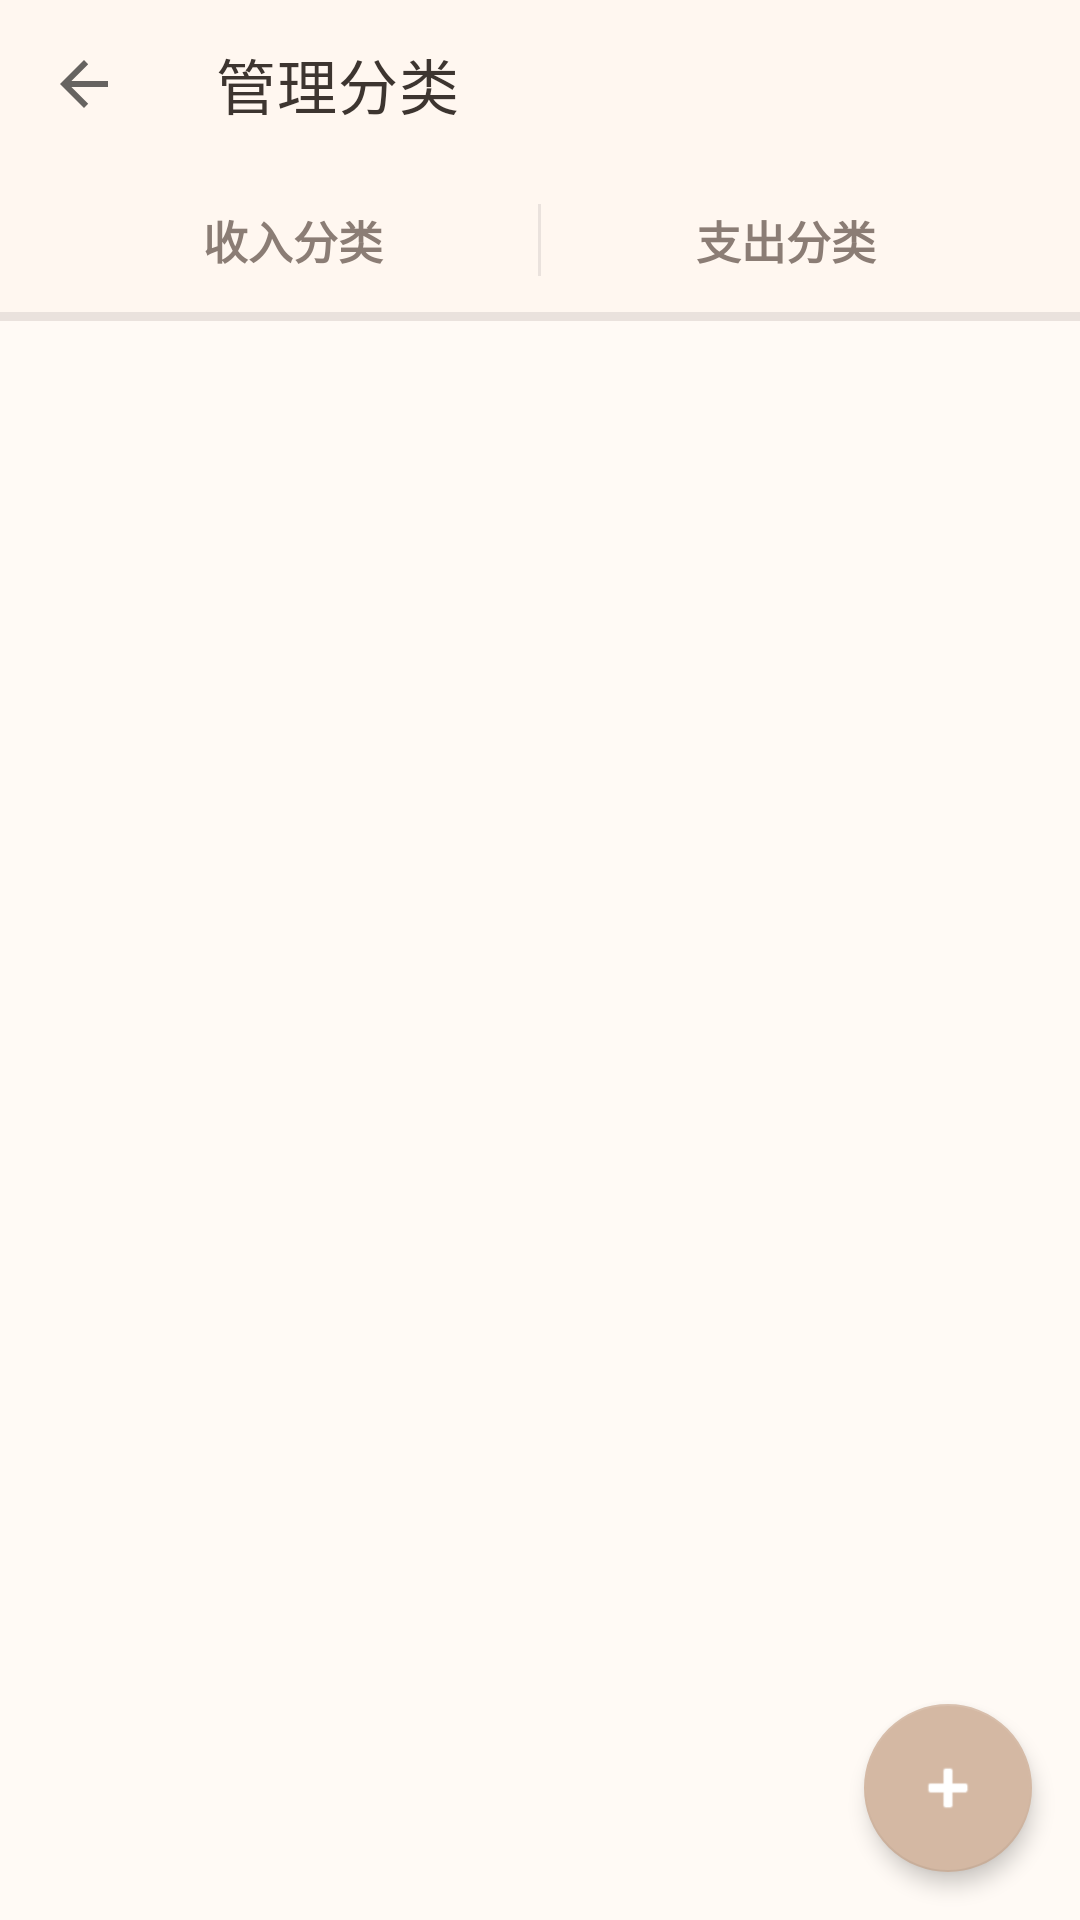

Where to tap for icons on this 1080×1920 app screen, as point (x, y):
添加分类: point (948, 1788)
